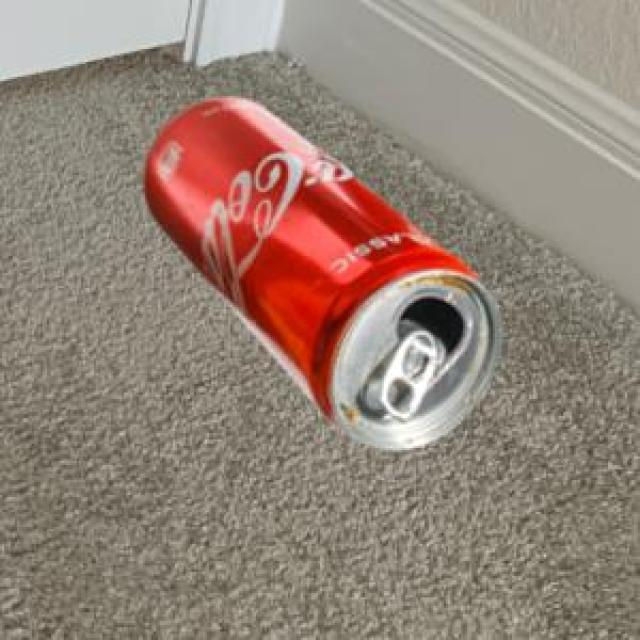Can: (142, 95, 498, 447)
